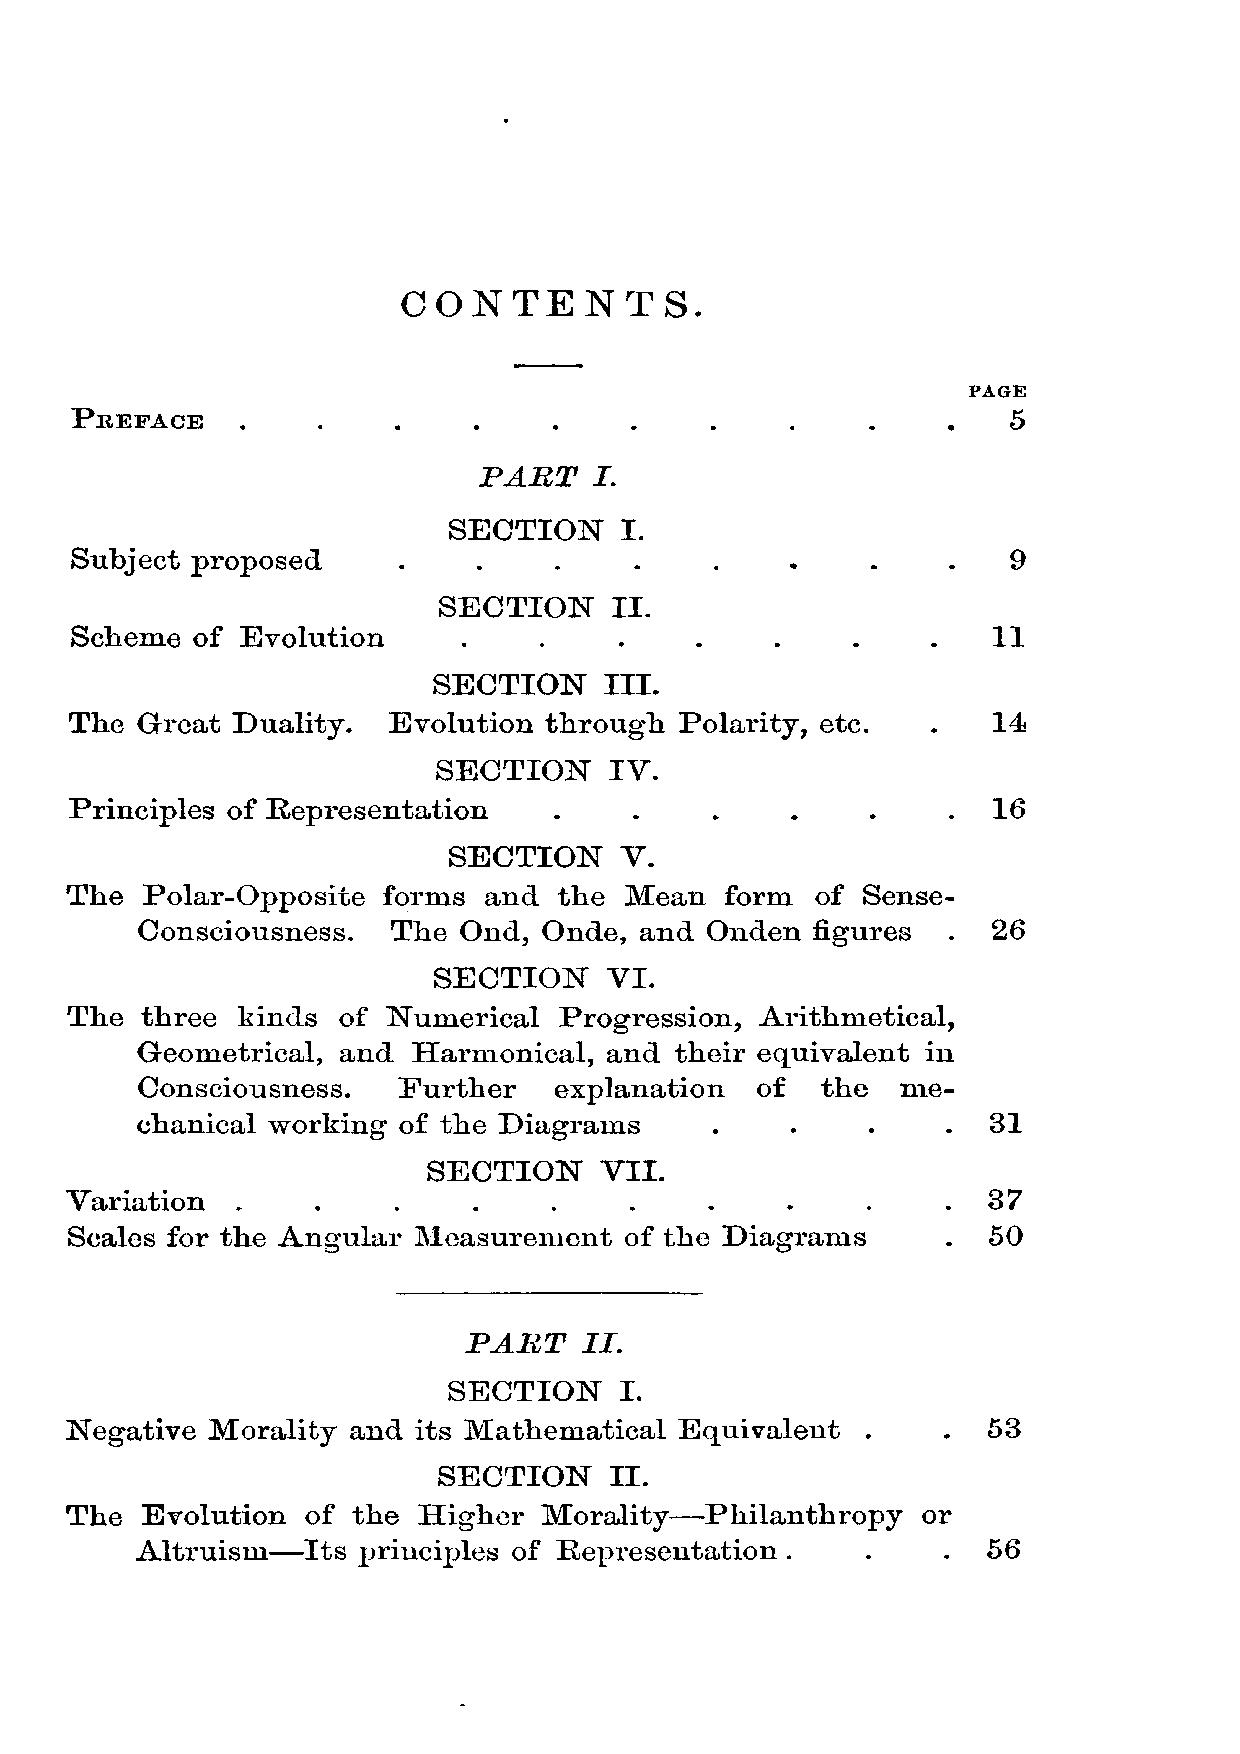TOC_chapter: (59, 957, 957, 1135), (60, 836, 968, 945), (63, 1457, 953, 1563), (60, 1370, 839, 1445), (64, 671, 880, 739), (66, 753, 662, 823), (64, 586, 650, 655), (66, 1155, 674, 1215), (64, 517, 655, 577), (64, 1221, 870, 1252), (474, 459, 621, 497), (459, 1326, 629, 1357), (66, 400, 215, 431)
TOC_pagenumber: (988, 703, 1029, 737), (986, 620, 1028, 650), (984, 1534, 1025, 1563), (990, 913, 1027, 945), (984, 1412, 1021, 1443), (989, 793, 1027, 821), (986, 1107, 1019, 1139), (985, 1186, 1025, 1209), (986, 1221, 1024, 1245), (1004, 544, 1029, 574), (1002, 405, 1029, 429)
chapter: (399, 282, 705, 321)
